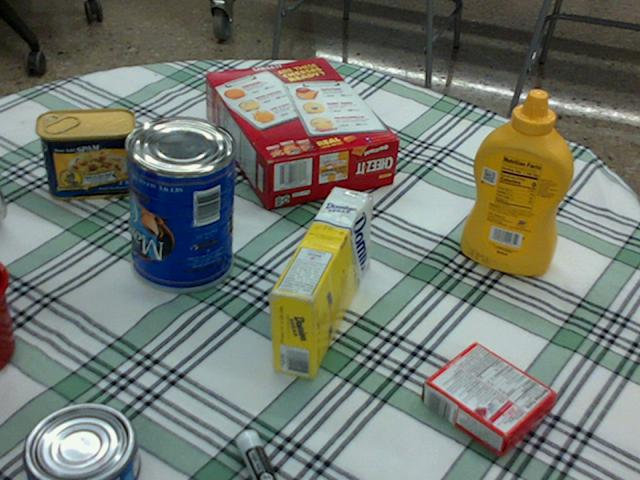cracker_box: (204, 58, 398, 204)
gelatin_box: (421, 342, 553, 457)
large_marker: (235, 430, 276, 479)
master_chef_can: (121, 116, 233, 292)
mug: (0, 260, 12, 363)
mustard_bottle: (459, 89, 572, 274)
potted_meat_can: (37, 108, 138, 200)
sugar_box: (268, 187, 370, 378)
tomato_soup_can: (0, 192, 4, 219)
tuna_fish_can: (20, 403, 136, 479)
